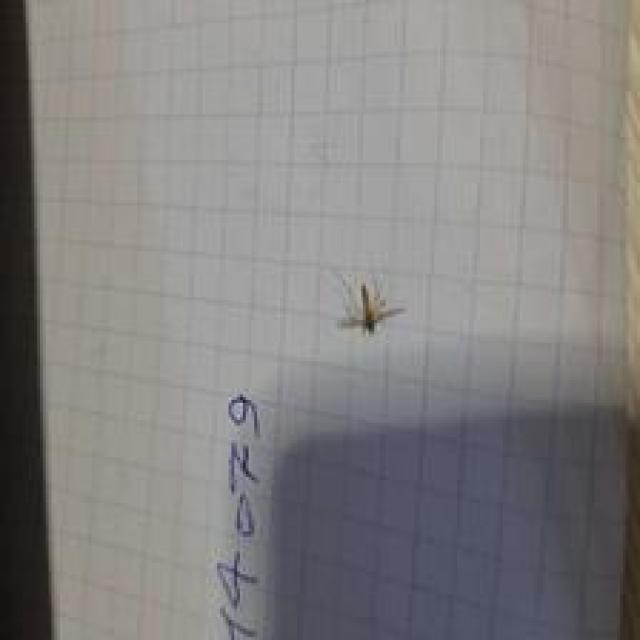Culex: (337, 270, 406, 336)
